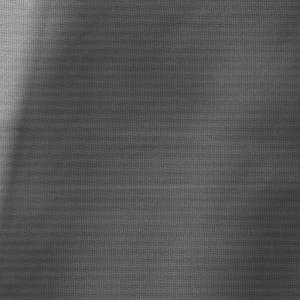Wrinkle: (1, 1, 73, 230)
